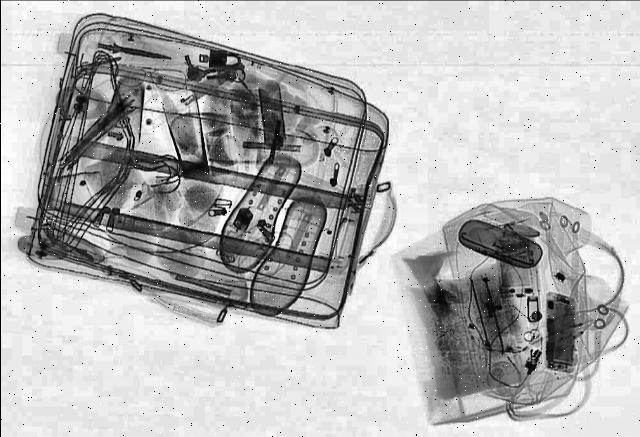Knife: (92, 36, 174, 62)
